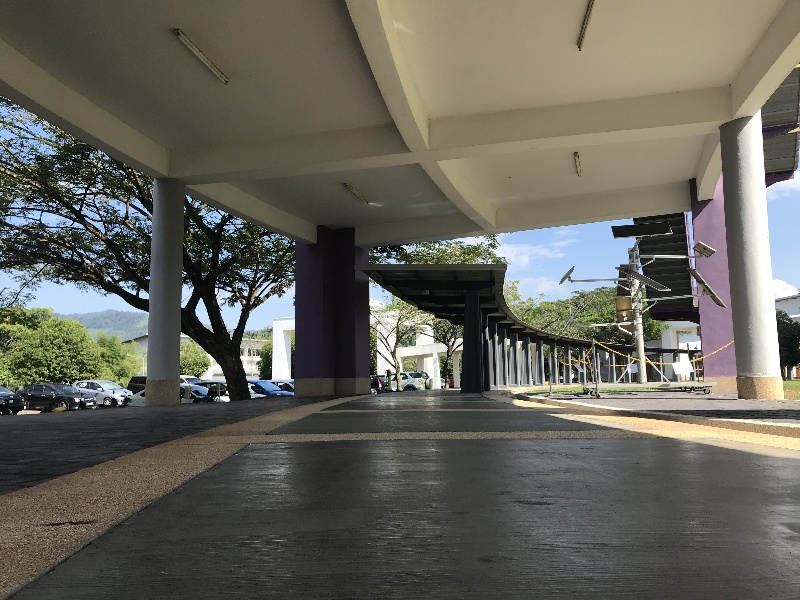Block D Pillar 5: (6, 10, 800, 537)
pillar: (704, 106, 800, 417), (286, 220, 383, 406), (676, 172, 754, 390), (134, 166, 198, 415), (444, 278, 496, 393)
